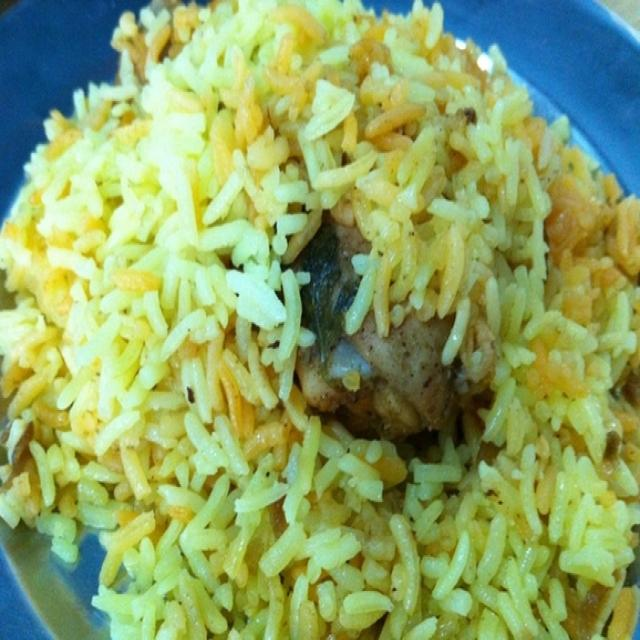米饭主食: (11, 12, 631, 634)
